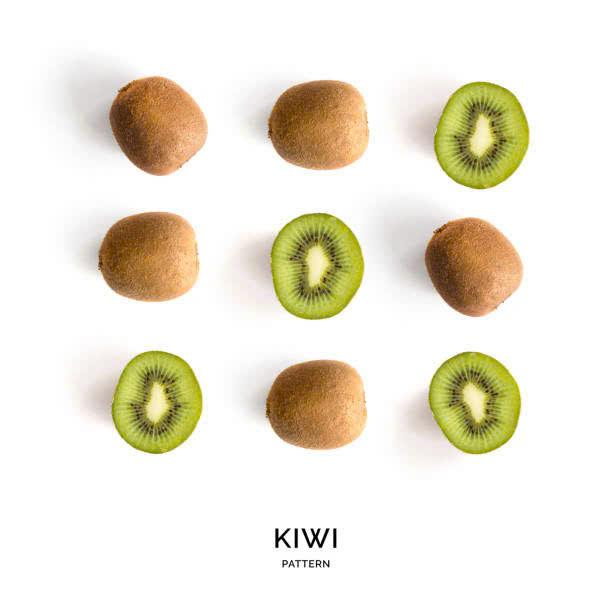kiwi: (249, 56, 376, 186), (413, 347, 540, 464), (251, 203, 370, 324), (444, 74, 549, 203), (416, 216, 527, 334), (80, 203, 211, 301), (269, 360, 384, 469), (94, 339, 199, 458), (114, 83, 220, 186)
